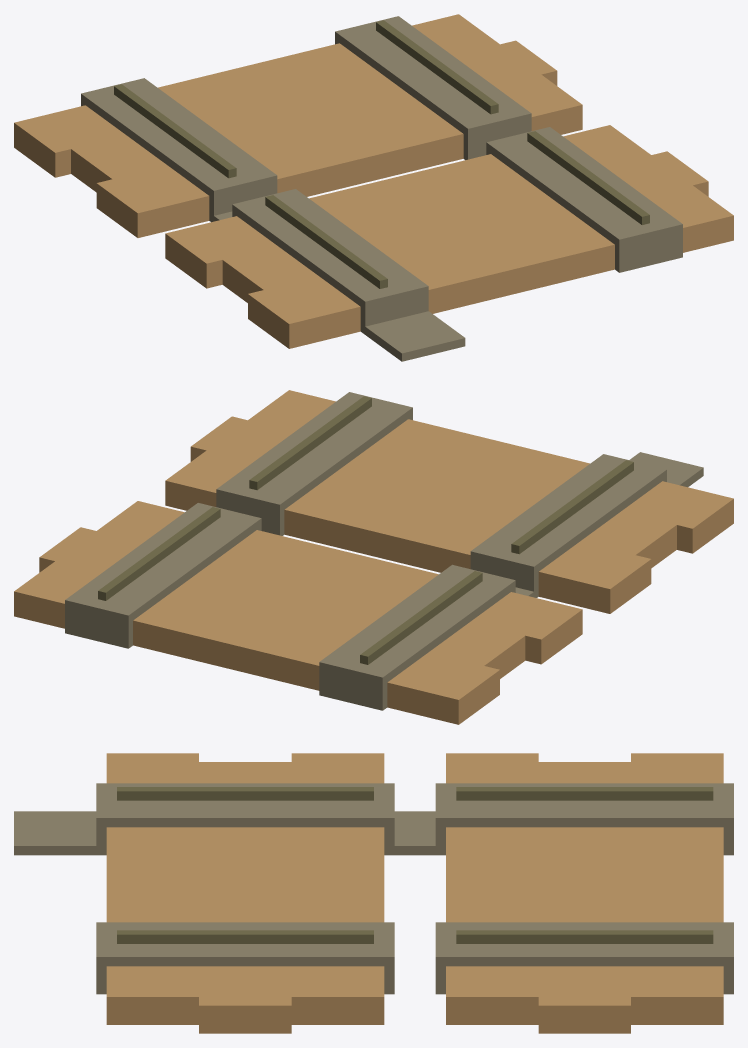
The model's file is plank_arm_guard.glb.
The picture shows the model from 3 angles, top to bottom: view 1: azimuth 30°, elevation 25°; view 2: azimuth 150°, elevation 25°; view 3: azimuth 270°, elevation 25°; orthographic projection. The views are drawn at different scales.
Parts seen in each view (by area): view 1: plank_arm_guard:compound; view 2: plank_arm_guard:compound; view 3: plank_arm_guard:compound.
Part boxes in pixels (box(x1,y1,x2,y2)): plank_arm_guard:compound: box(14, 14, 733, 361); plank_arm_guard:compound: box(14, 390, 733, 724); plank_arm_guard:compound: box(14, 753, 733, 1033).
Bounding box in the file's own units: 0.232 × 0.02 × 0.28.
